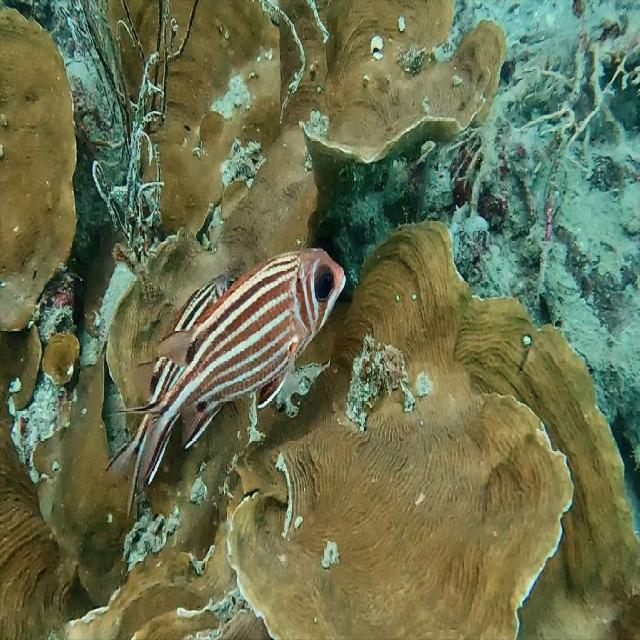Asker Baligi: (103, 243, 347, 519)
